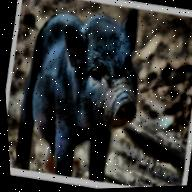boar: (2, 0, 160, 190)
